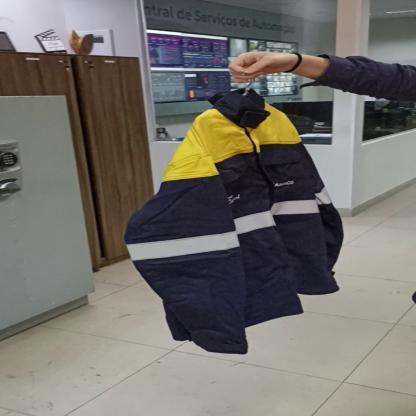C_eletrica: (123, 94, 362, 354)
